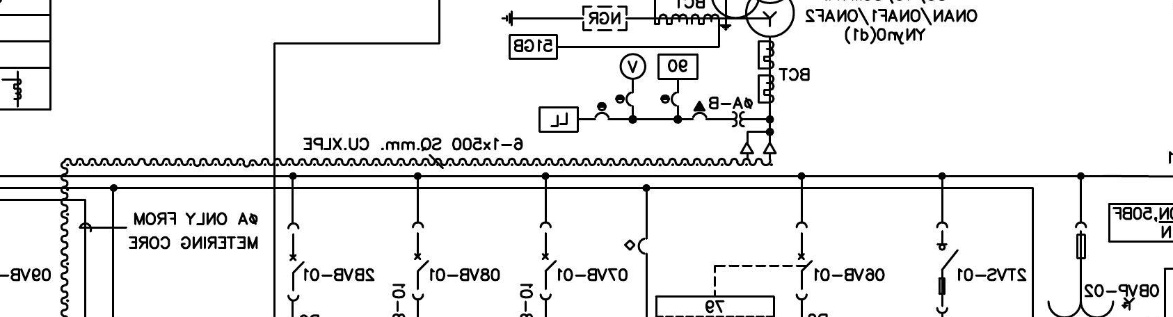22_breaker: (795, 221, 814, 301), (411, 221, 430, 301), (539, 221, 557, 301), (287, 222, 305, 302)
22_ds: (935, 221, 959, 315)
LL: (538, 106, 579, 133)
NGR_future: (501, 5, 627, 32)
terminator_double: (739, 130, 777, 155)
v_m: (619, 52, 647, 81)
